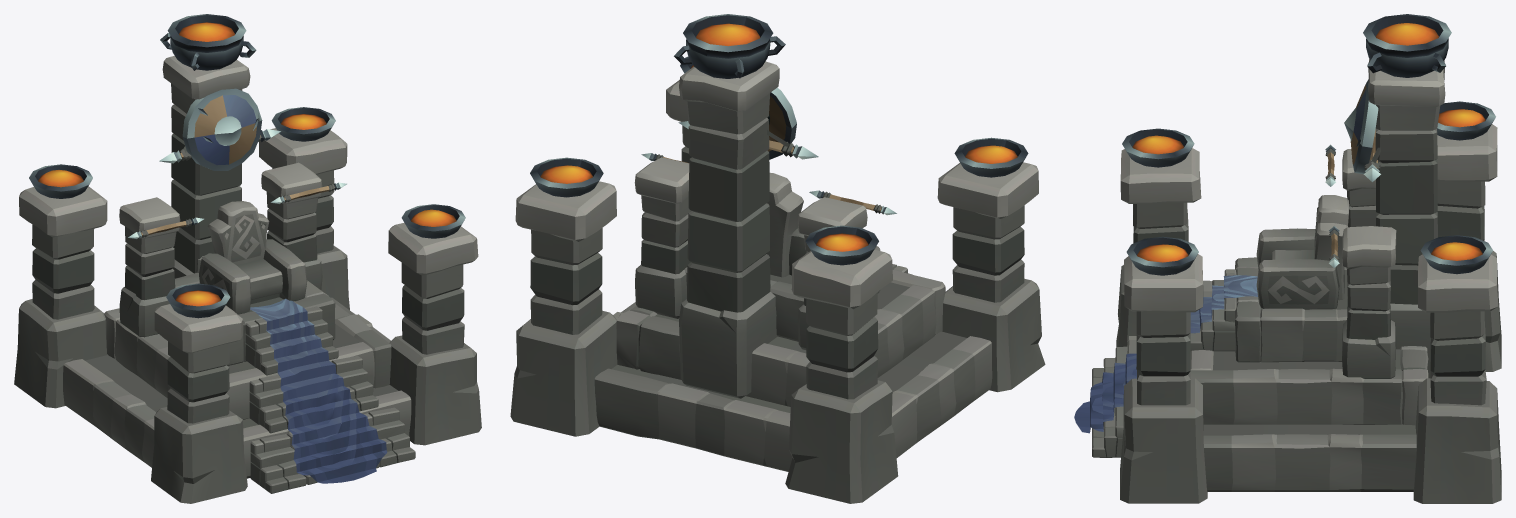
File: Altar.fbx
The picture shows the model from 3 angles, left to right: view 1: azimuth 30°, elevation 25°; view 2: azimuth 150°, elevation 25°; view 3: azimuth 270°, elevation 25°; orthographic projection. The views are drawn at different scales.
Visible parts, largest first — view 1: 37__throne_Lv3_proto__37__throne_Lv3_proto__73_37__throne_Lv; view 2: 37__throne_Lv3_proto__37__throne_Lv3_proto__73_37__throne_Lv; view 3: 37__throne_Lv3_proto__37__throne_Lv3_proto__73_37__throne_Lv.
Part boxes in pixels (x1=…): 37__throne_Lv3_proto__37__throne_Lv3_proto__73_37__throne_Lv: x1=14, y1=14, x2=481, y2=503; 37__throne_Lv3_proto__37__throne_Lv3_proto__73_37__throne_Lv: x1=510, y1=14, x2=1045, y2=503; 37__throne_Lv3_proto__37__throne_Lv3_proto__73_37__throne_Lv: x1=1074, y1=14, x2=1501, y2=503.
Size of the model in its own units: 8.44 by 9.17 by 9.02.
1 material, 1 textured.
